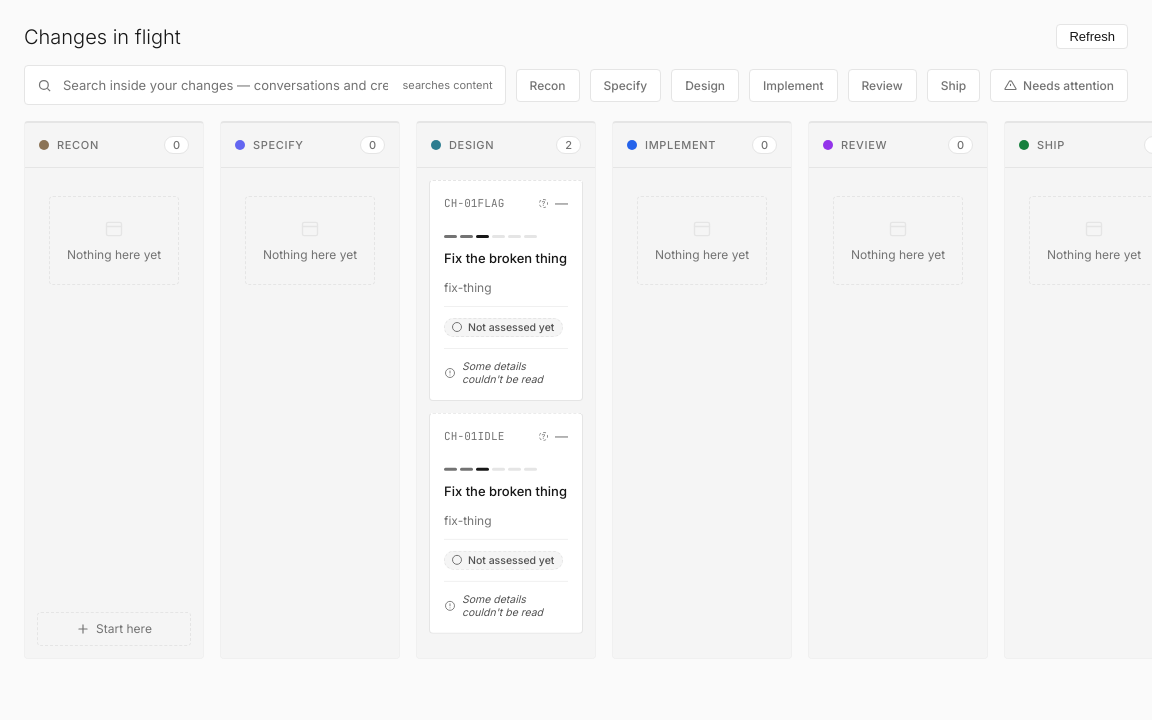
Board wiring — the toolbar narrows the SAME board (ADR-005) › the needs-attention filter narrows the board to flagged changes (FR-12)
Check: the text "CH-01IDLE" is shown, box [444,429,504,443]
Click the button "Needs attention" at (1059, 85), box [990,68,1128,102]
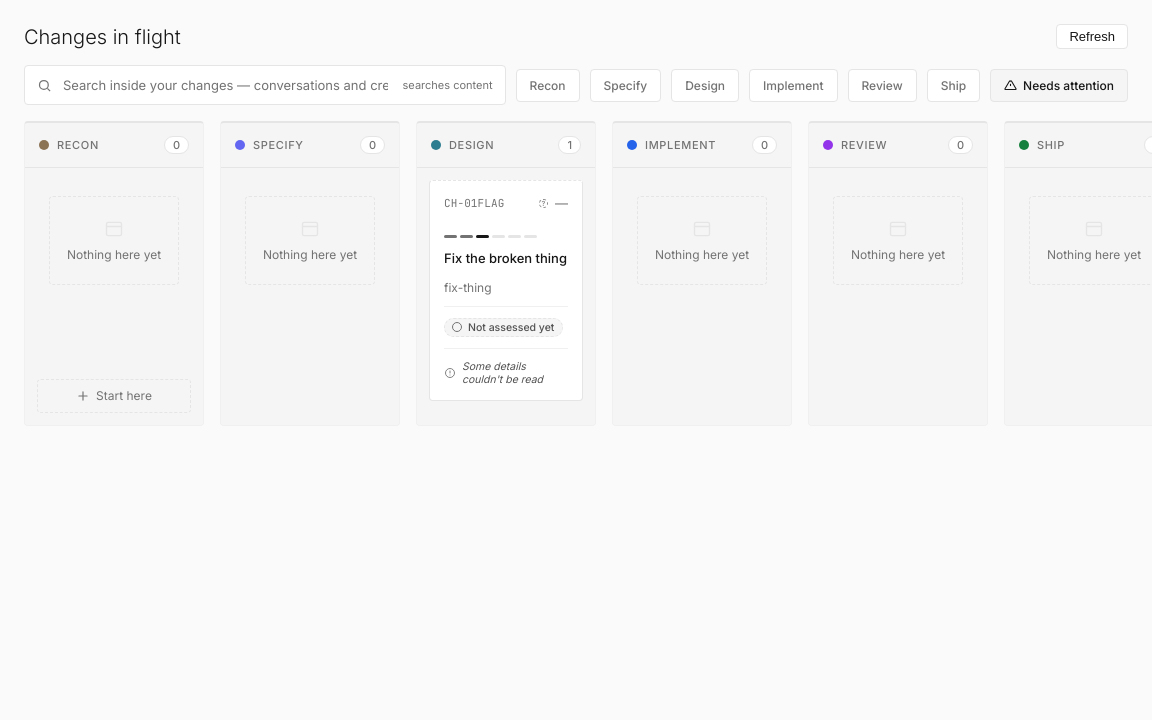
Check: the text "CH-01FLAG" is shown, box [444,196,504,210]
Check: the link "CH-01IDLE" is gone
